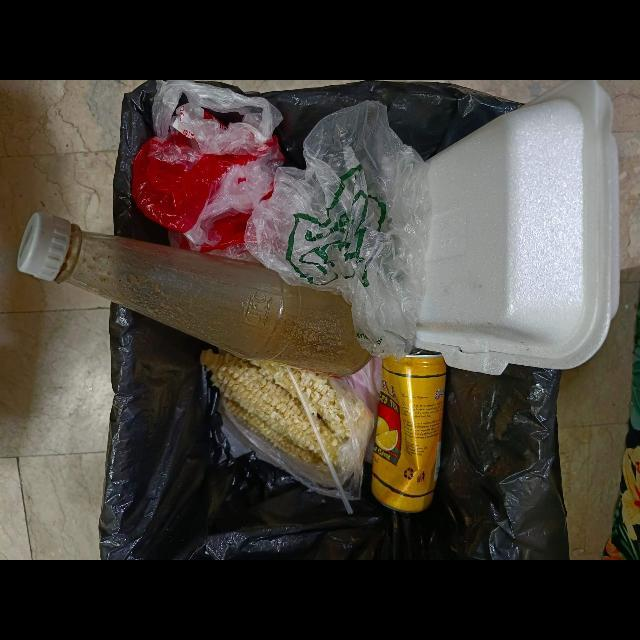biowaste: (200, 350, 350, 483)
glass: (16, 213, 373, 378)
metal: (371, 348, 448, 515)
plastic: (244, 101, 432, 361), (131, 80, 285, 255)
styrofoam: (415, 80, 620, 377)
